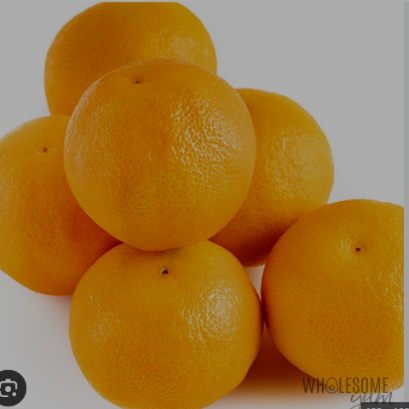orange: (58, 232, 293, 408), (56, 60, 269, 251), (258, 168, 409, 393)
